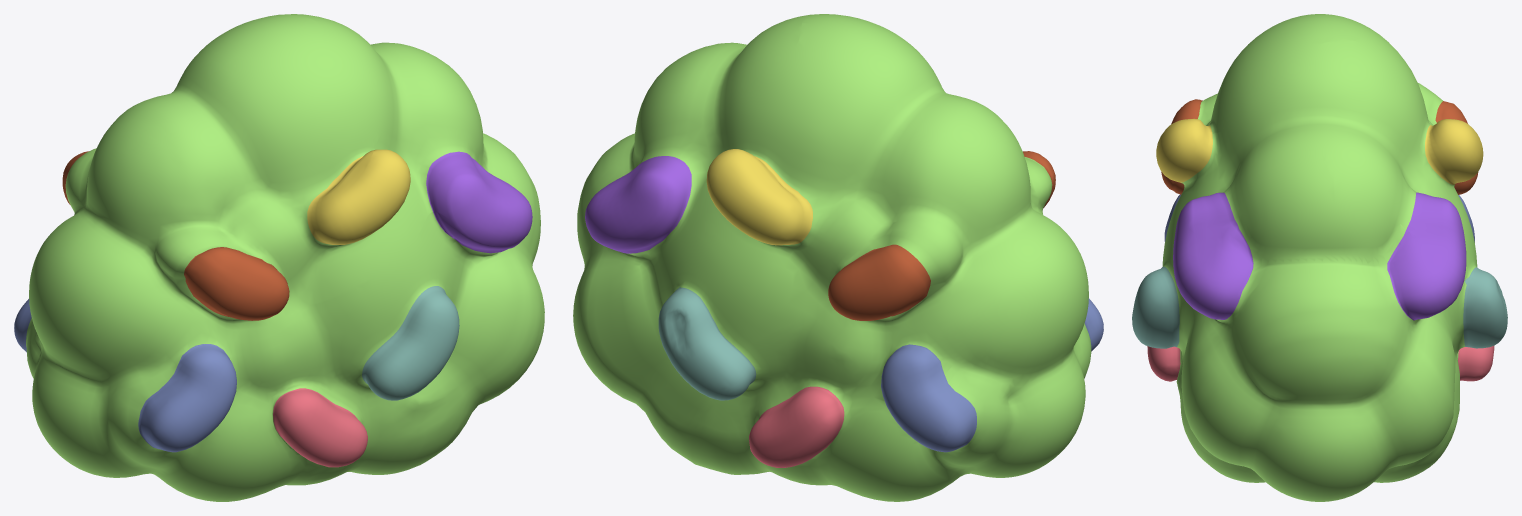
The model's file is bush.fbx.
3 views of the same model, side by side, from view 1: azimuth 30°, elevation 25°; view 2: azimuth 150°, elevation 25°; view 3: azimuth 270°, elevation 25° (orthographic). The views are drawn at different scales.
Visible parts, largest first — view 1: model; view 2: model; view 3: model.
Boxes of the visible parts, x1,y1,x2,y2 form: model: [14, 14, 544, 501]; model: [573, 14, 1103, 501]; model: [1132, 14, 1507, 501].
Size of the model in its own units: 6.36 by 5.45 by 4.45.
